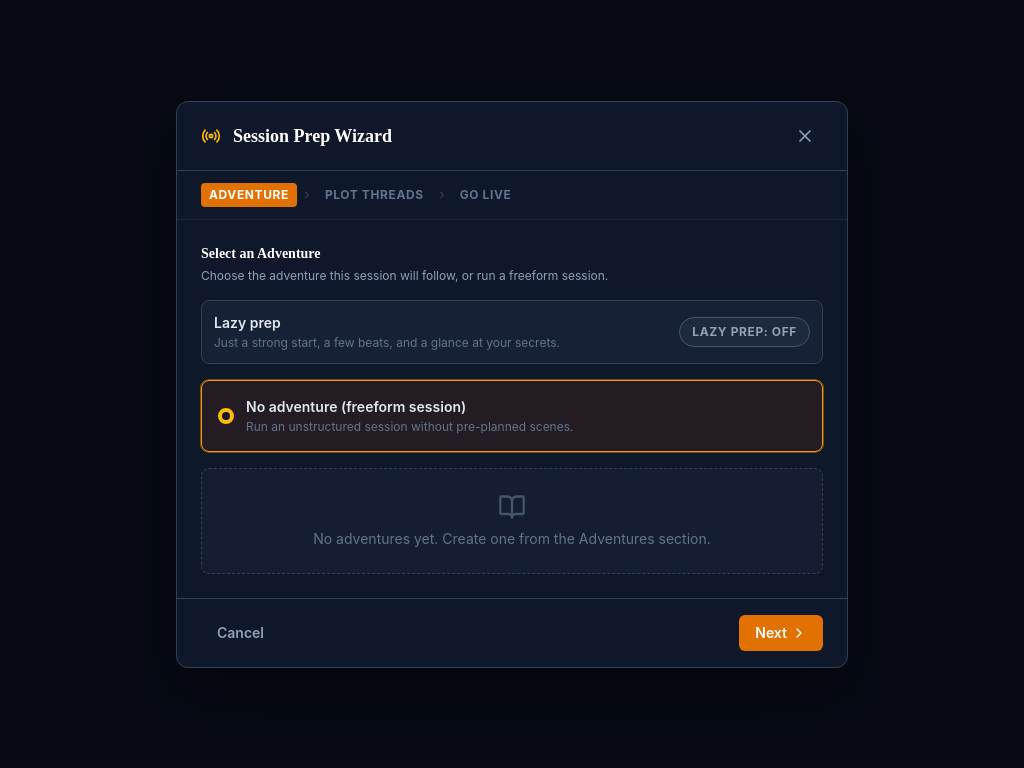
Test case: Scene Menu Generator — the preview › shows checkable draft cards, all checked by default
Click the button "Lazy prep: off": click(745, 332) [679,316,810,346]
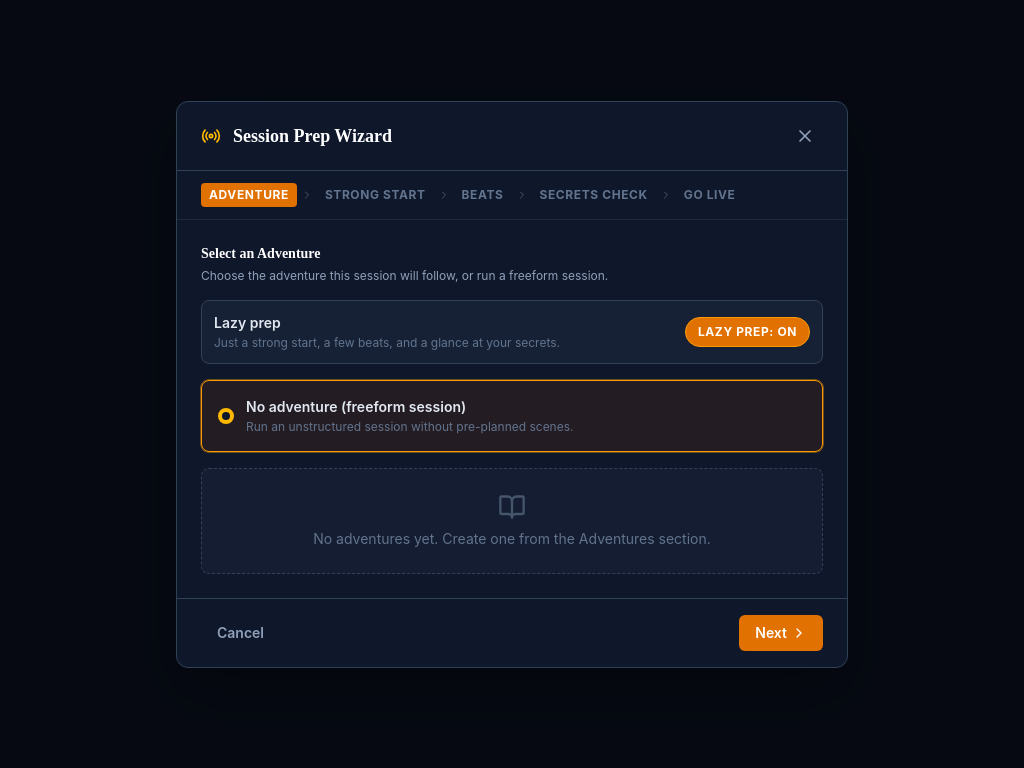
Click the button "Beats": click(483, 194) [454,182,512,206]
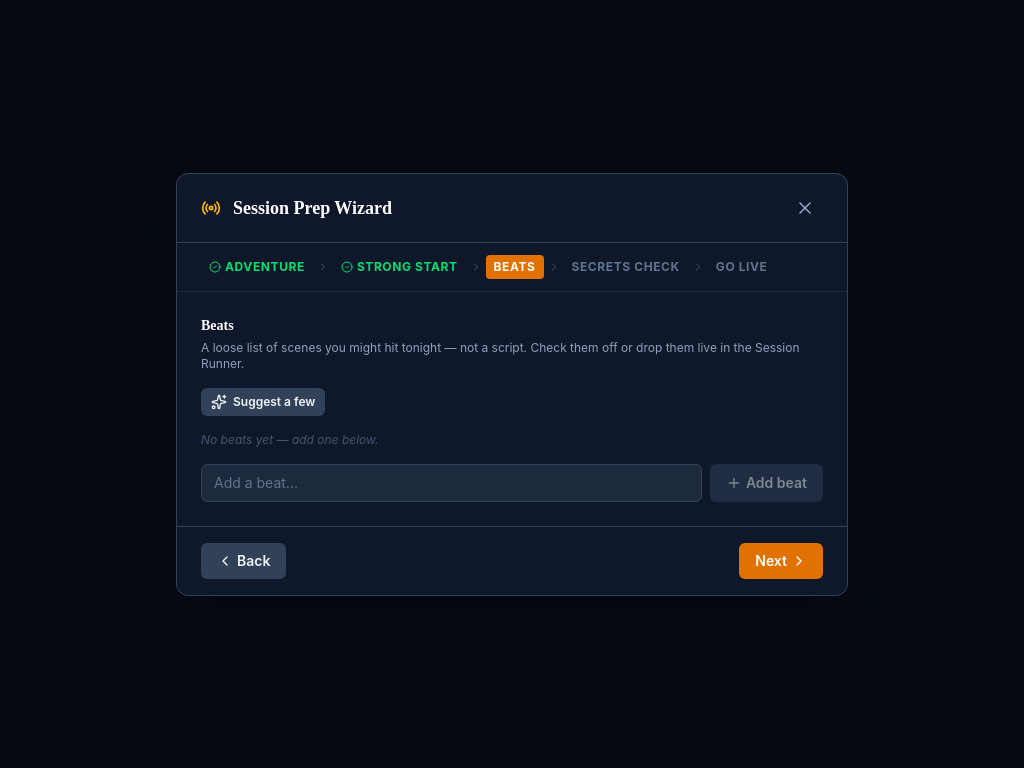
Click the button "Suggest a few": click(263, 402) [201,388,325,416]
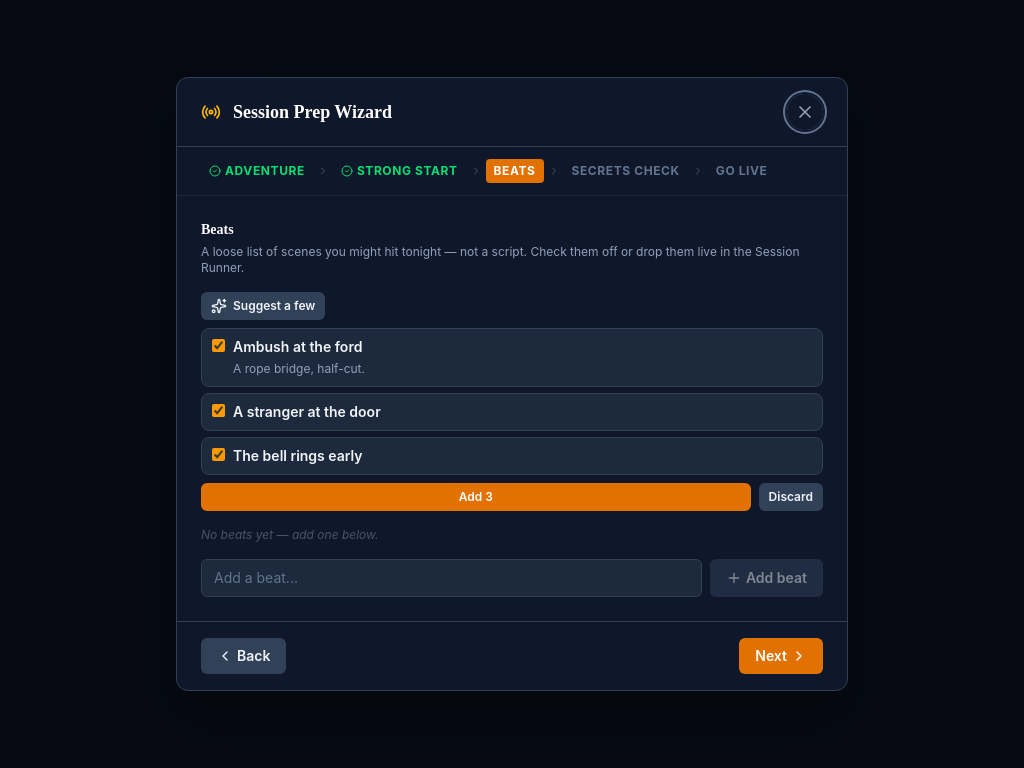
Now the checkbox labelled "Ambush at the ford" is checked, box [212,339,225,352]
Now the text "A rope bridge, half-cut." is shown, box [233,361,365,376]
Now the checkbox labelled "A stranger at the door" is checked, box [212,404,225,417]
